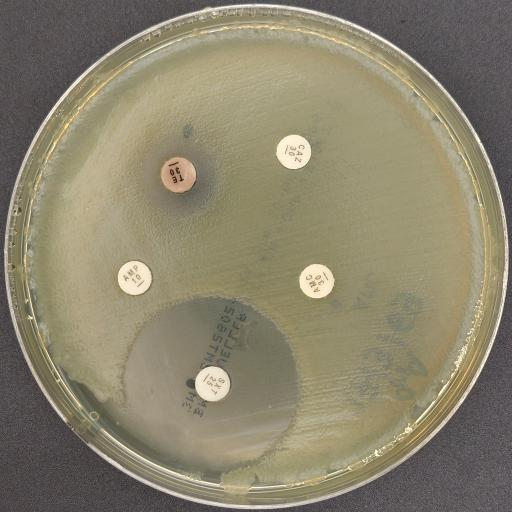disc: (276, 134, 312, 170), (117, 260, 152, 296), (299, 263, 334, 299), (161, 157, 196, 193), (195, 366, 230, 401)
